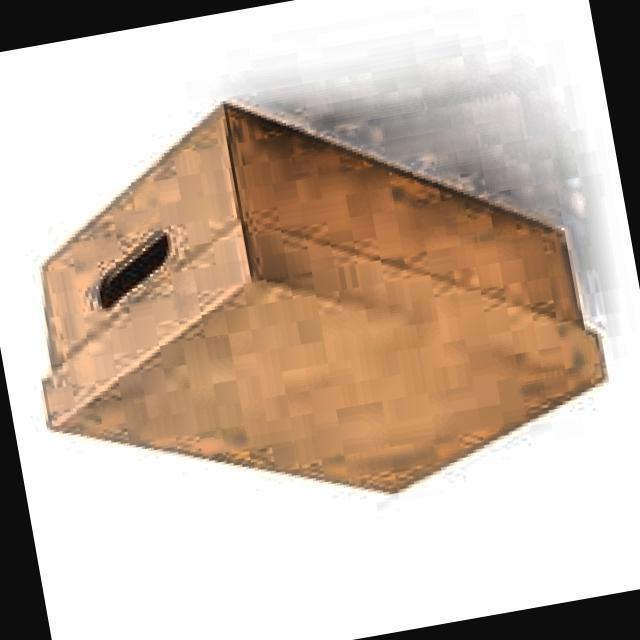cardboard: (0, 46, 622, 557)
